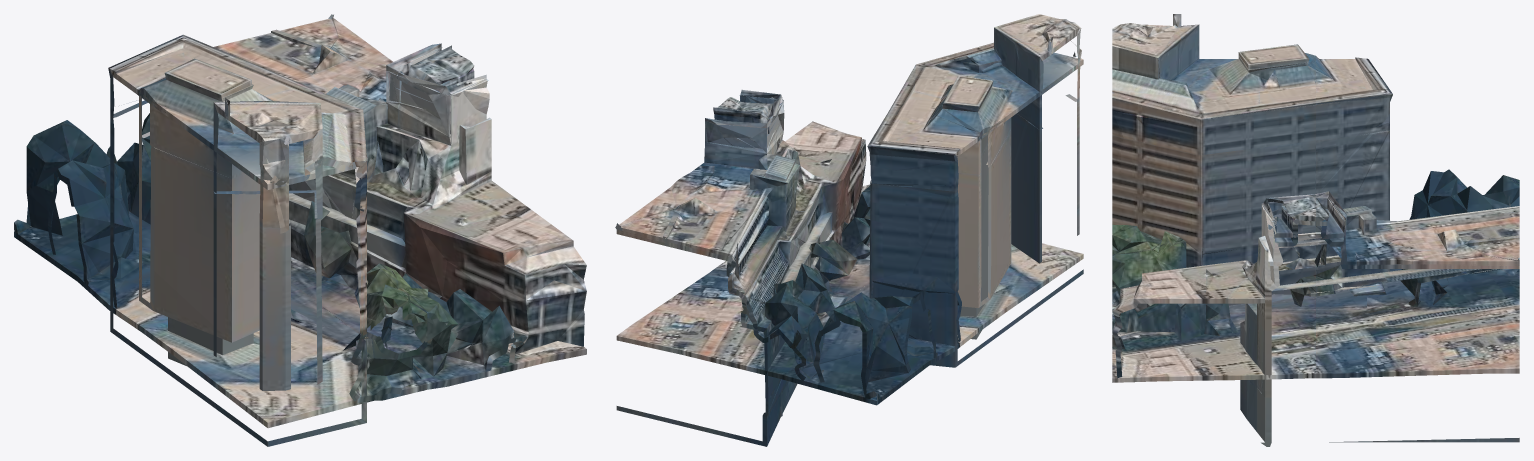
The model's file is chunk_-3_5.glb.
3 renders of one model, left to right at view 1: azimuth 30°, elevation 25°; view 2: azimuth 150°, elevation 25°; view 3: azimuth 270°, elevation 25°, orthographic. The views are drawn at different scales.
Visible parts, largest first — view 1: hero-chunk; view 2: hero-chunk; view 3: hero-chunk.
Part boxes in pixels (<box>): hero-chunk: <box>14,14,586,446</box>; hero-chunk: <box>615,14,1083,446</box>; hero-chunk: <box>1112,14,1519,446</box>.
Size of the model in its own units: 56.96 by 63.68 by 76.32.
Materials: 3 (3 with a texture image).
